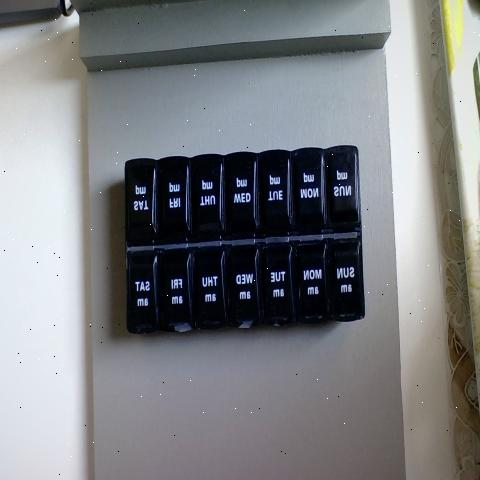FRI-am: (159, 246, 189, 328)
FRI-pm: (157, 162, 188, 246)
MON-am: (298, 242, 326, 327)
MON-pm: (290, 158, 324, 236)
PillBox: (118, 121, 376, 369)
SAT-am: (126, 249, 158, 336)
SAT-pm: (128, 163, 156, 243)
SUN-am: (333, 238, 365, 321)
SUN-pm: (328, 156, 356, 234)
THU-am: (192, 246, 225, 330)
THU-pm: (192, 164, 223, 247)
TUE-am: (260, 243, 292, 327)
TUE-pm: (260, 158, 288, 239)
WED-am: (226, 245, 260, 327)
WED-pm: (222, 158, 258, 243)
